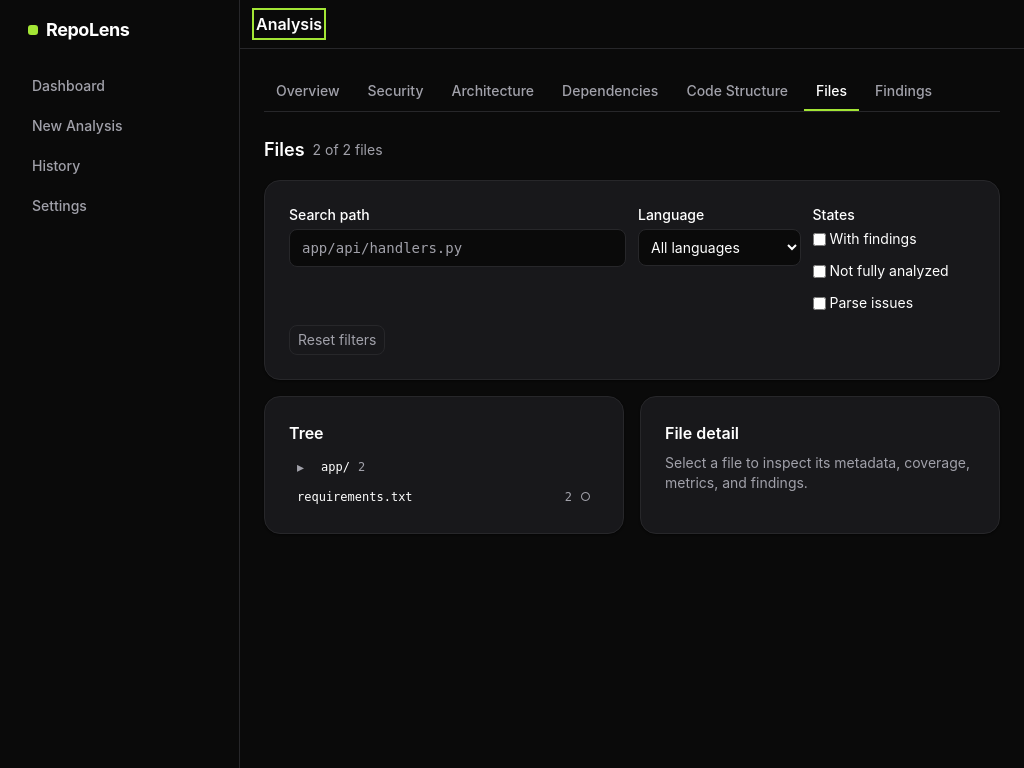
Test: Files explorer › renders the directory tree with finding counts
Expected: the heading "Files" is shown, [264,136,304,164]
Expected: the text "2 of 2 files" is shown, [312,140,382,160]
What coordinates should you click on to do the following:
click the button "▸ app/ 2"
I would click on:
 (301, 466)
Its box is [289,453,599,481].
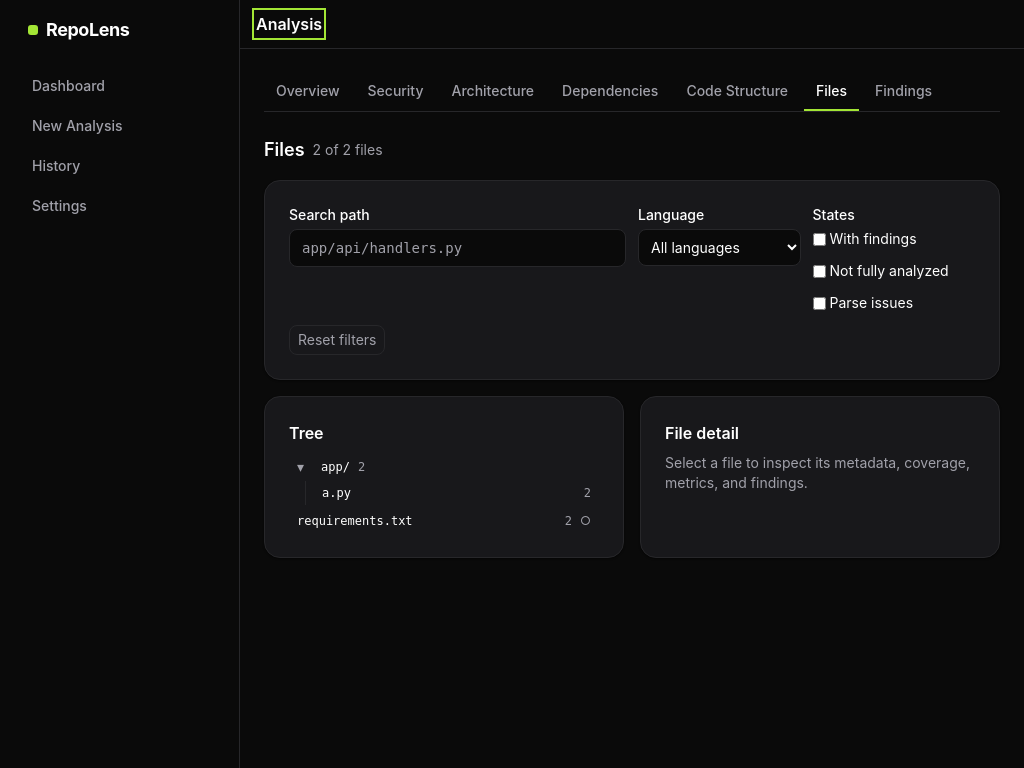
Expected: the button "a.py 2" is shown, [314,481,599,505]
